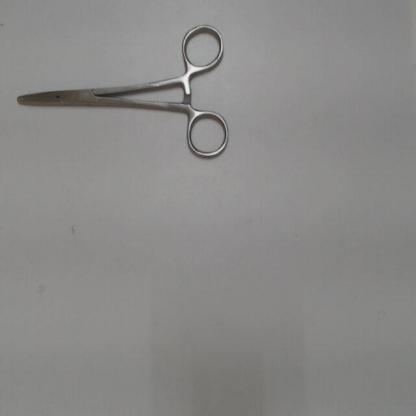Mayo Needle Holder: (6, 14, 236, 169)
